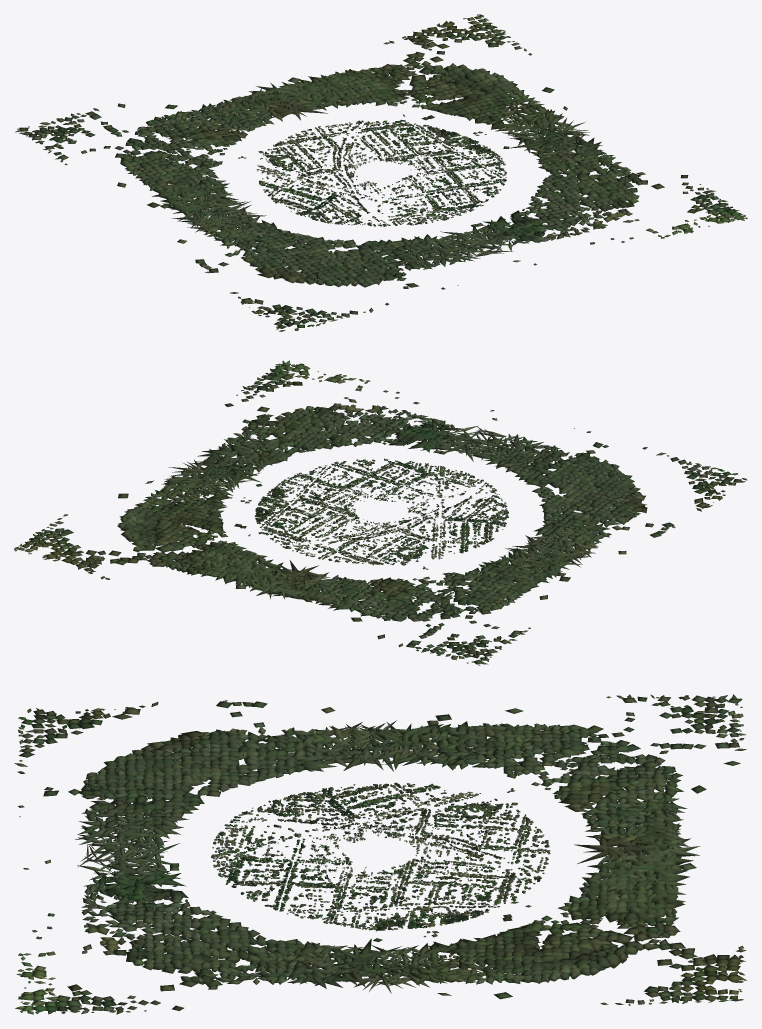
Rendered from windy_hill_backdrop_part2.glb.
The picture shows the model from 3 angles, top to bottom: view 1: azimuth 30°, elevation 25°; view 2: azimuth 150°, elevation 25°; view 3: azimuth 270°, elevation 25°; orthographic projection. The views are drawn at different scales.
Parts seen in each view (by area): view 1: bg_trees_joined_s12, bg_trees_joined_s13, bg_trees_joined_s08, bg_trees_joined_s14, bg_trees_joined_s15, bg_trees_joined_s09, bg_trees_joined_s11, bg_trees_joined_s10, bg_trees_joined_s04, bg_trees_joined_s00, bg_trees_joined_s02, bg_trees_joined_s07 (+4 smaller); view 2: bg_trees_joined_s08, bg_trees_joined_s14, bg_trees_joined_s12, bg_trees_joined_s13, bg_trees_joined_s11, bg_trees_joined_s09, bg_trees_joined_s15, bg_trees_joined_s10, bg_trees_joined_s04, bg_trees_joined_s06, bg_trees_joined_s00, bg_trees_joined_s02 (+4 smaller); view 3: bg_trees_joined_s11, bg_trees_joined_s13, bg_trees_joined_s12, bg_trees_joined_s14, bg_trees_joined_s08, bg_trees_joined_s15, bg_trees_joined_s09, bg_trees_joined_s10, bg_trees_joined_s04, bg_trees_joined_s00, bg_trees_joined_s06, bg_trees_joined_s02 (+4 smaller).
Part boxes in pixels (x1=…): bg_trees_joined_s12: x1=421, y1=14, x2=584, y2=149; bg_trees_joined_s13: x1=270, y1=14, x2=479, y2=121; bg_trees_joined_s08: x1=177, y1=201, x2=342, y2=331; bg_trees_joined_s14: x1=17, y1=86, x2=315, y2=153; bg_trees_joined_s15: x1=15, y1=128, x2=271, y2=221; bg_trees_joined_s09: x1=289, y1=220, x2=490, y2=330; bg_trees_joined_s11: x1=499, y1=127, x2=747, y2=218; bg_trees_joined_s10: x1=445, y1=189, x2=746, y2=265; bg_trees_joined_s04: x1=389, y1=123, x2=489, y2=165; bg_trees_joined_s00: x1=273, y1=179, x2=374, y2=224; bg_trees_joined_s02: x1=396, y1=175, x2=500, y2=219; bg_trees_joined_s07: x1=257, y1=158, x2=357, y2=200; bg_trees_joined_s08: x1=491, y1=477, x2=747, y2=563; bg_trees_joined_s14: x1=263, y1=558, x2=479, y2=665; bg_trees_joined_s12: x1=14, y1=466, x2=271, y2=549; bg_trees_joined_s13: x1=14, y1=531, x2=318, y2=598; bg_trees_joined_s11: x1=183, y1=361, x2=337, y2=486; bg_trees_joined_s09: x1=456, y1=428, x2=737, y2=496; bg_trees_joined_s15: x1=422, y1=541, x2=582, y2=664; bg_trees_joined_s10: x1=283, y1=360, x2=497, y2=466; bg_trees_joined_s04: x1=255, y1=488, x2=355, y2=528; bg_trees_joined_s06: x1=319, y1=521, x2=411, y2=564; bg_trees_joined_s00: x1=408, y1=500, x2=507, y2=540; bg_trees_joined_s02: x1=352, y1=458, x2=444, y2=501; bg_trees_joined_s11: x1=20, y1=905, x2=399, y2=1014; bg_trees_joined_s13: x1=511, y1=844, x2=746, y2=1000; bg_trees_joined_s12: x1=371, y1=911, x2=741, y2=1005; bg_trees_joined_s14: x1=511, y1=698, x2=746, y2=858; bg_trees_joined_s08: x1=27, y1=700, x2=388, y2=800; bg_trees_joined_s15: x1=374, y1=694, x2=741, y2=792; bg_trees_joined_s09: x1=14, y1=715, x2=242, y2=857; bg_trees_joined_s10: x1=15, y1=849, x2=254, y2=1010; bg_trees_joined_s04: x1=380, y1=862, x2=499, y2=930; bg_trees_joined_s00: x1=263, y1=784, x2=381, y2=841; bg_trees_joined_s06: x1=406, y1=803, x2=549, y2=853; bg_trees_joined_s02: x1=212, y1=852, x2=352, y2=901.
Size of the model in its own units: 3058 by 83.55 by 3043.
1 material, 1 textured.
